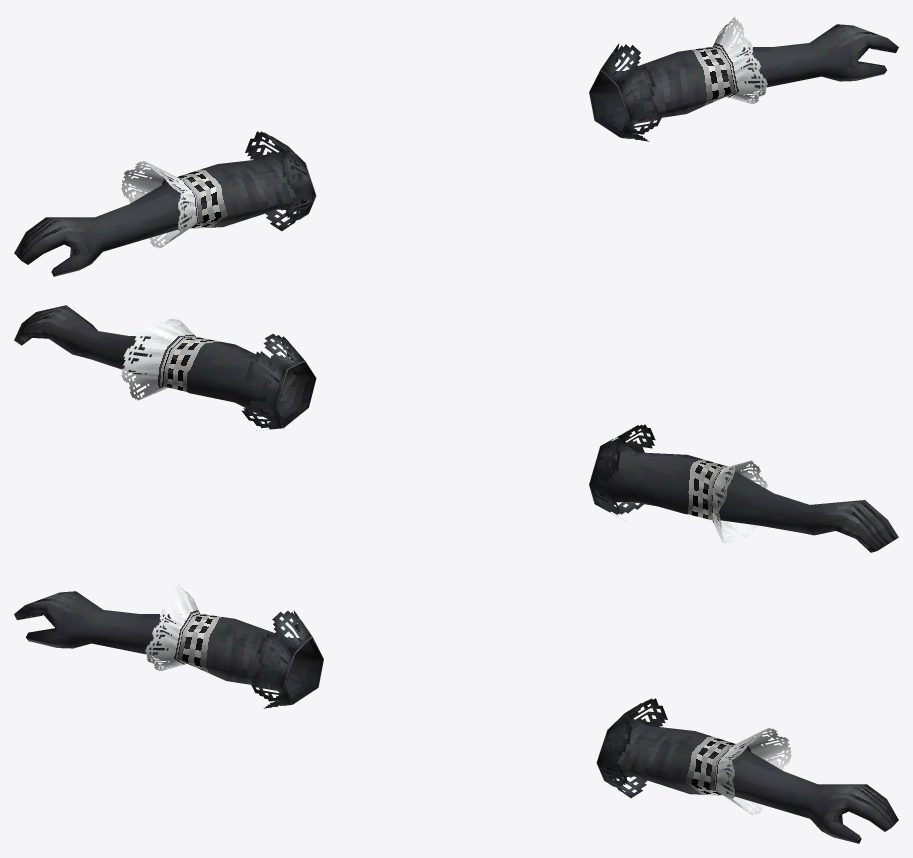
The model's file is f_gauntlet223.obj.
The picture shows the model from 3 angles, top to bottom: view 1: azimuth 30°, elevation 25°; view 2: azimuth 150°, elevation 25°; view 3: azimuth 330°, elevation 25°; orthographic projection.
Visible parts, largest first — view 1: mesh00; view 2: mesh00; view 3: mesh00.
Part boxes in pixels (x1,y1,x2,y2): mesh00: (14,17,898,276); mesh00: (14,305,898,552); mesh00: (14,584,898,843).
Bounding box in the file's own units: 172 × 16.7 × 19.45.
Materials: 1 (1 with a texture image).
